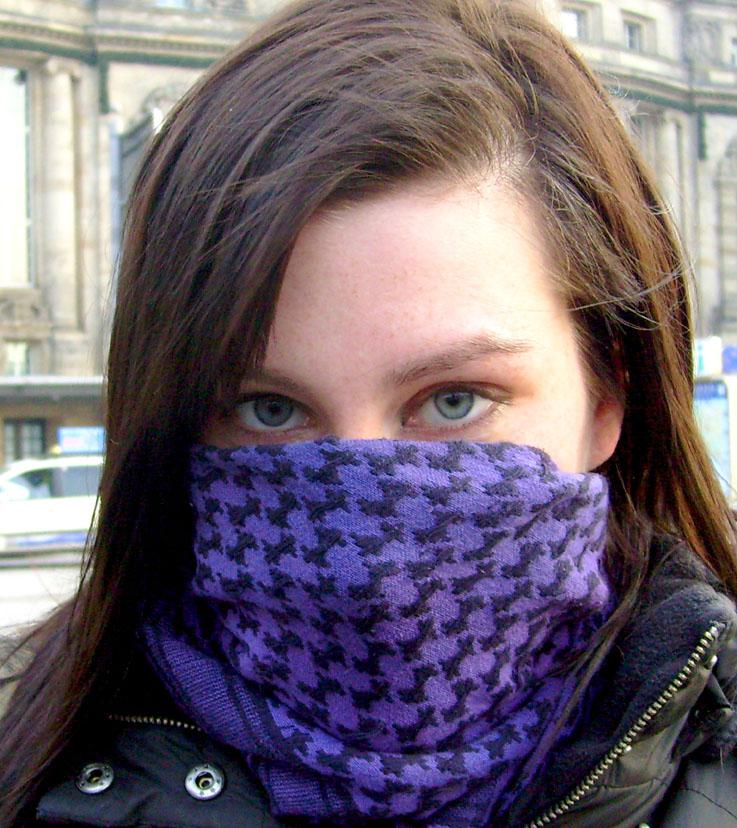OK: (130, 242, 611, 723)
